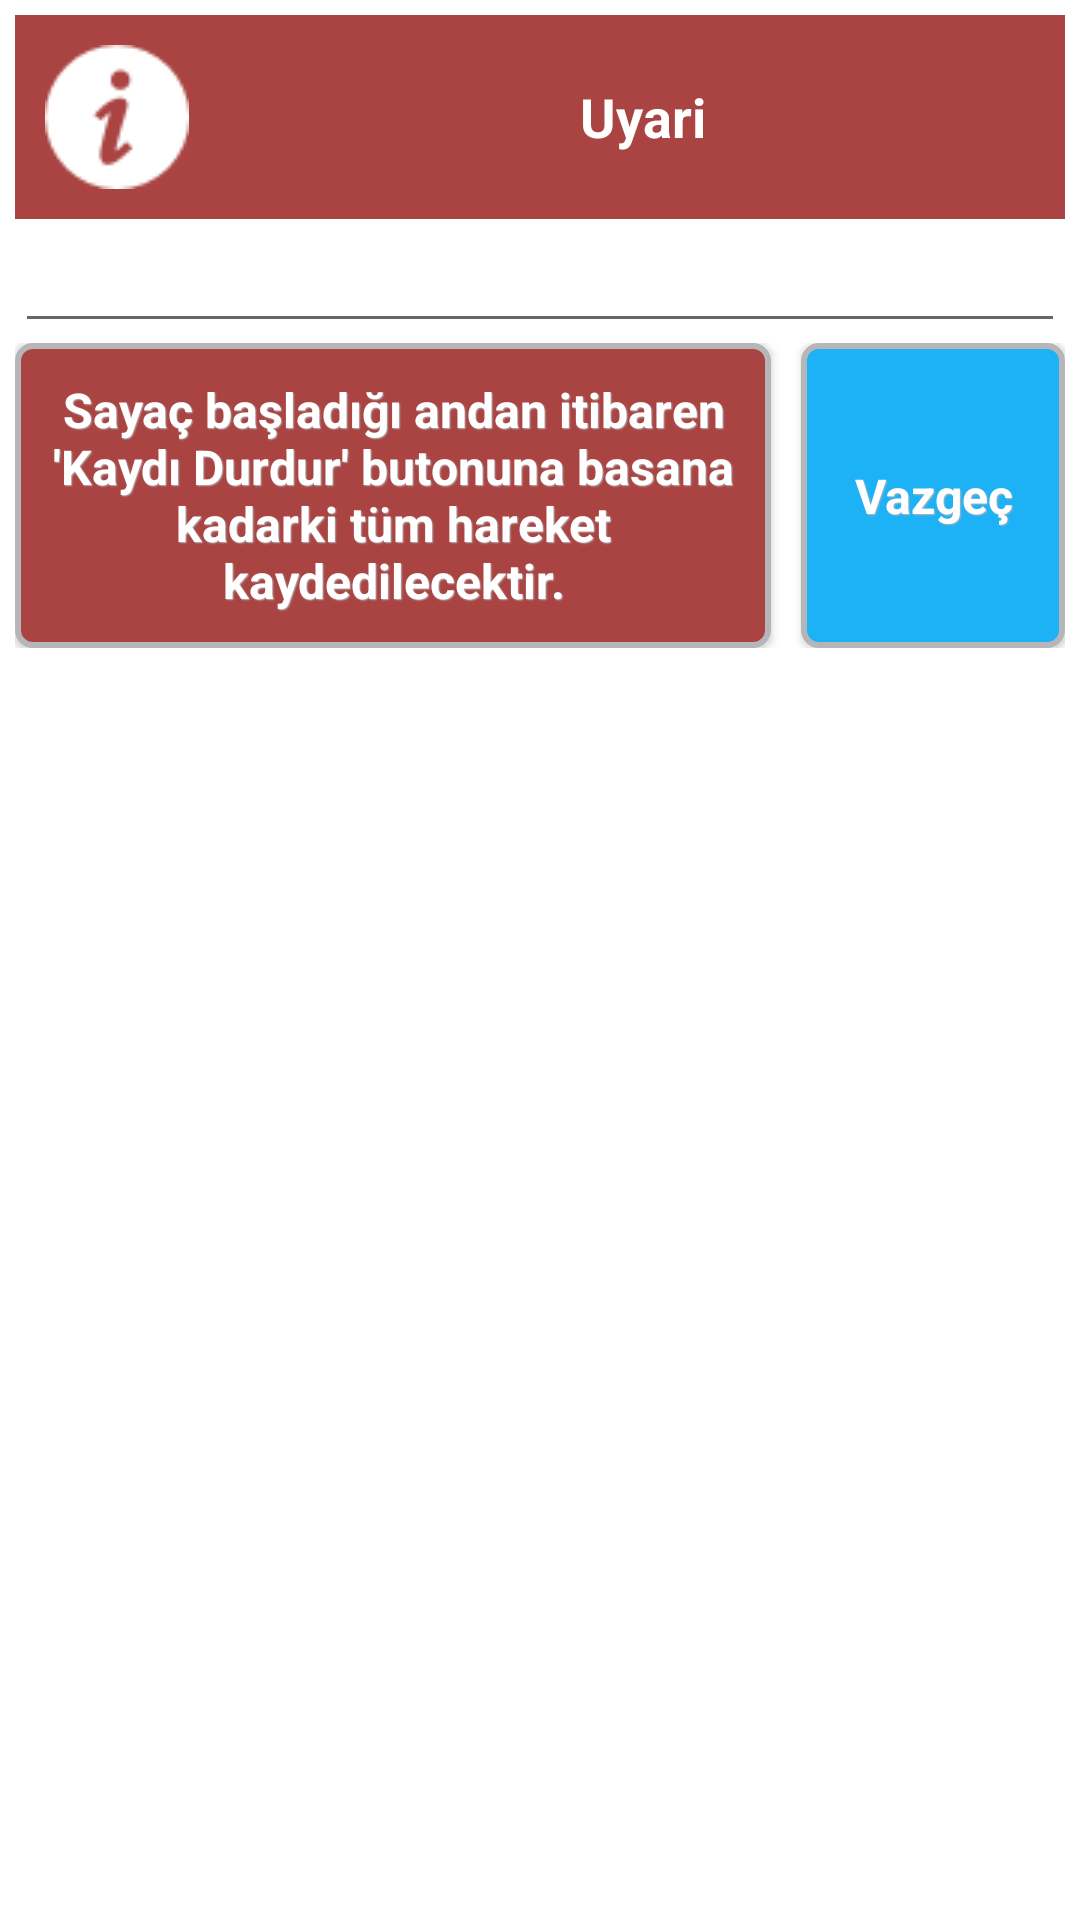

Icon bounding boxes for this 1080x1920 phone screenshot, format (x1=x1, y1=y1, x2=x2, y2=y2):
info: (x1=15, y1=15, x2=219, y2=219)
